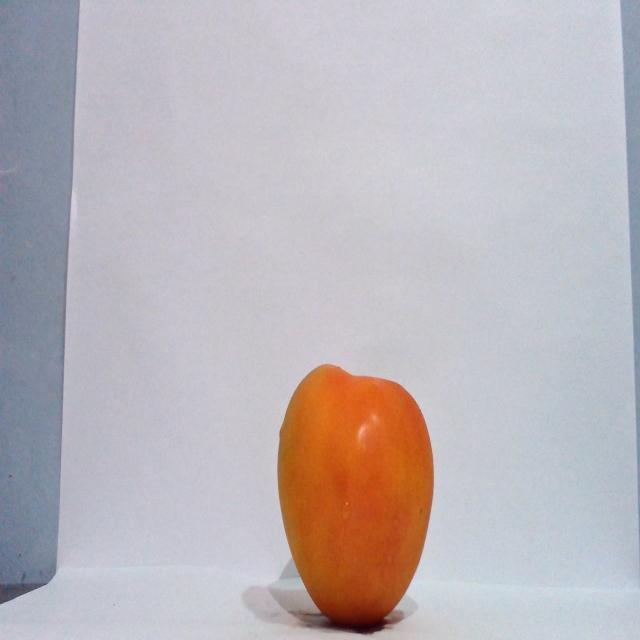Red: (275, 362, 435, 628)
